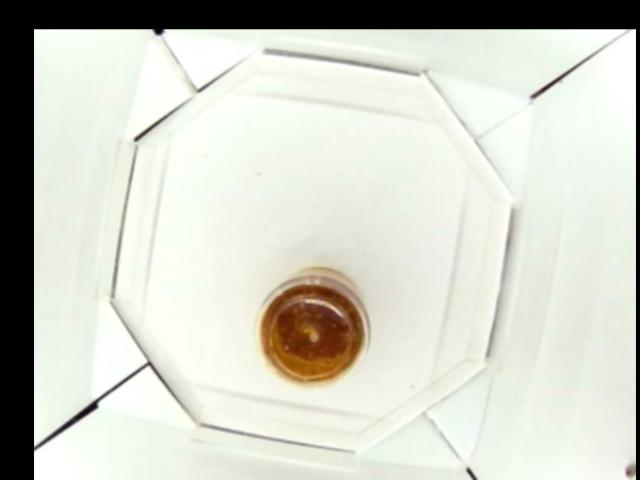Bottle: (254, 268, 371, 387)
